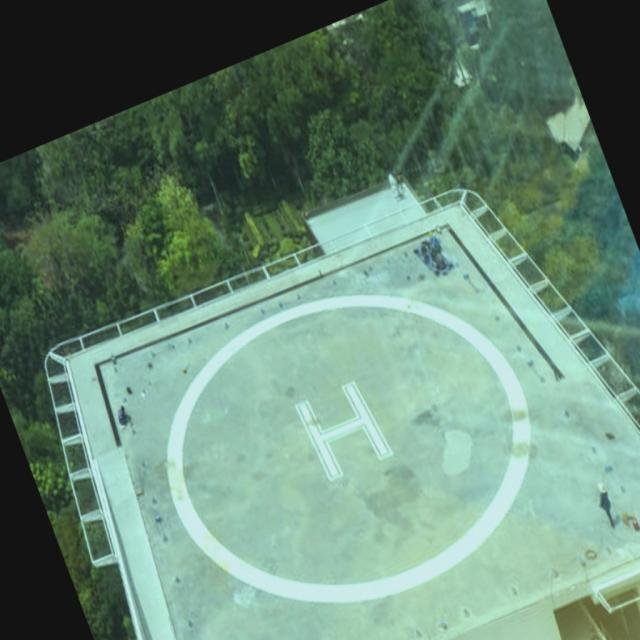helipad: (158, 288, 537, 605)
